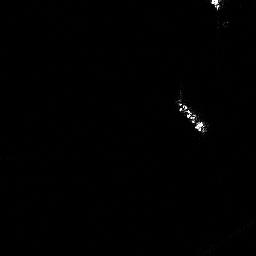ship: (177, 102, 205, 132)
